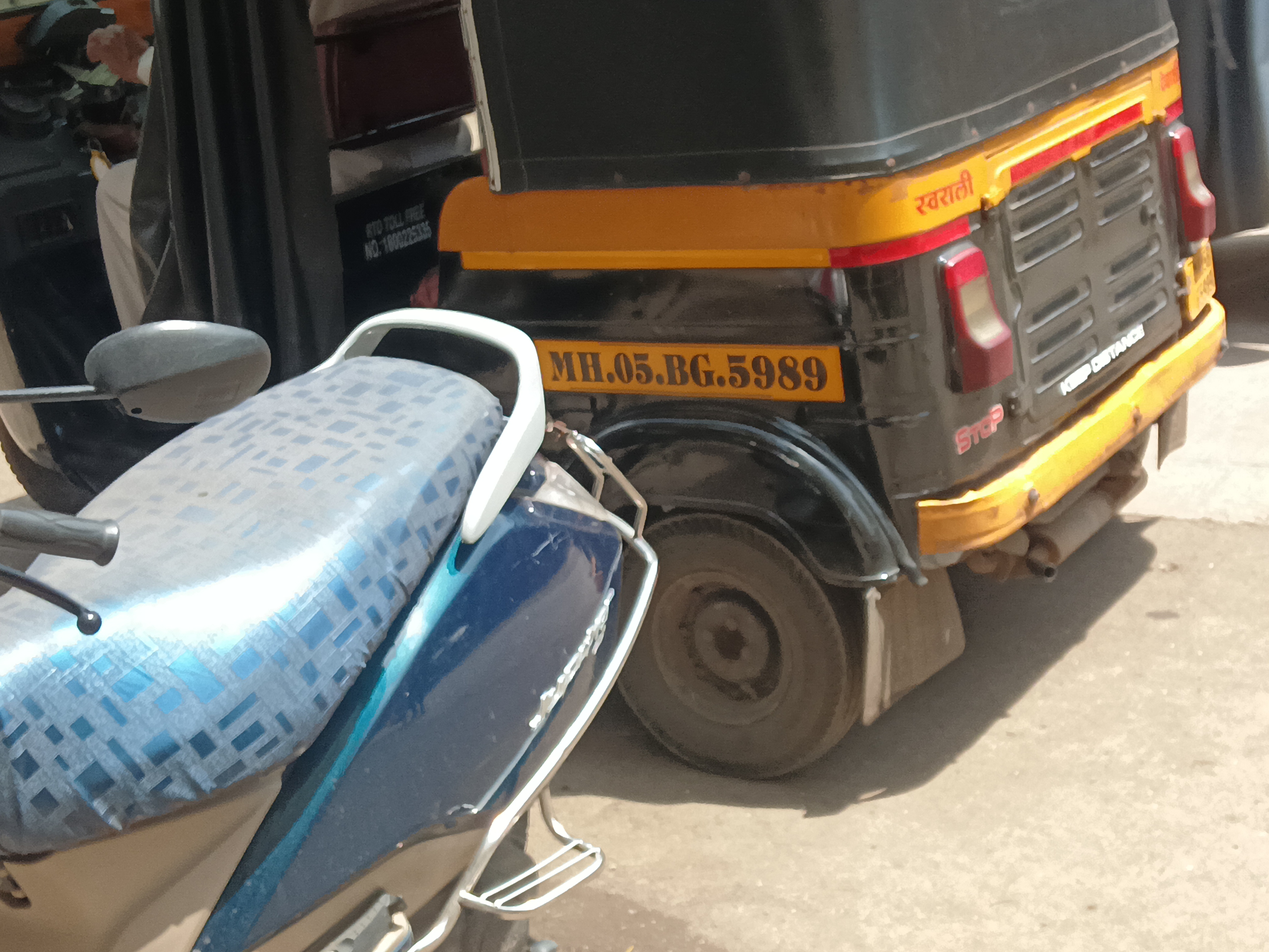vehicle: (538, 338, 845, 402)
